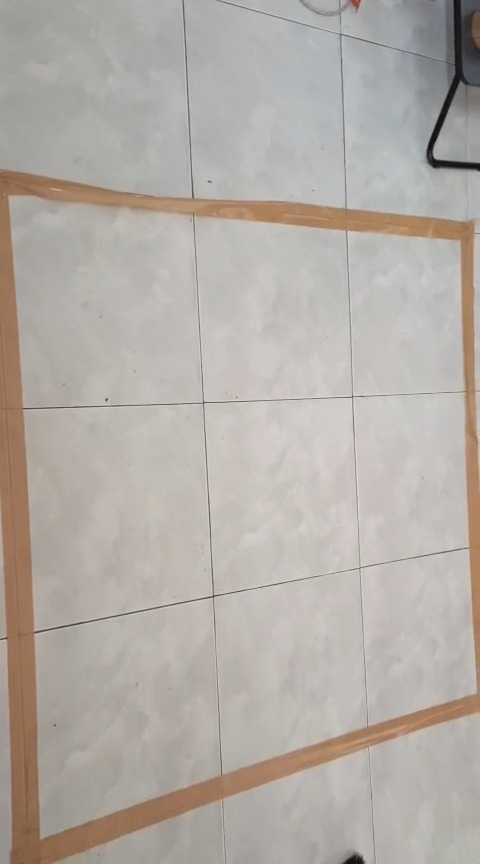floor marking: (0, 170, 479, 863)
